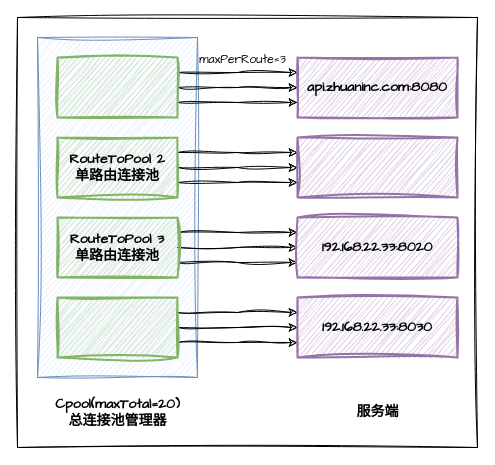
Image size: 495x465. Some labels were removed from this diagram. The shapes that lost their labels are listed below. From the top down, each one's centre as x and y in pixels, then its label:
At [117,87]: "RouteToPool 1 单路由连接池".
At [377,167]: "api.zhuaninc.com:8090".
At [117,327]: "RouteToPool 4 单 路由连接池".
